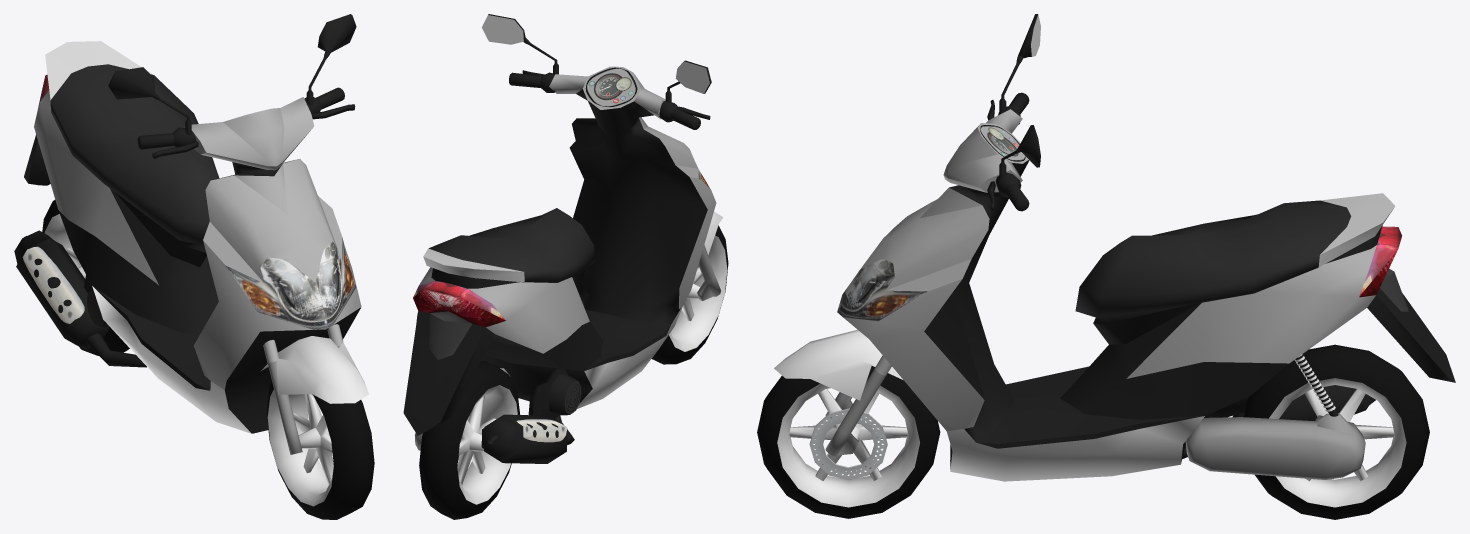
File: 1Scotter001.fbx
3 views of the same model, side by side, from view 1: azimuth 30°, elevation 25°; view 2: azimuth 150°, elevation 25°; view 3: azimuth 270°, elevation 25° (orthographic). The views are drawn at different scales.
Parts seen in each view (by area): view 1: scooter_Plane; view 2: scooter_Plane; view 3: scooter_Plane.
Boxes of the visible parts, left/top/right/bottom form: scooter_Plane: left=14, top=14, right=374, bottom=519; scooter_Plane: left=403, top=14, right=728, bottom=519; scooter_Plane: left=757, top=14, right=1455, bottom=519.
Bounding box in the file's own units: 2.09 × 3.31 × 4.74.
